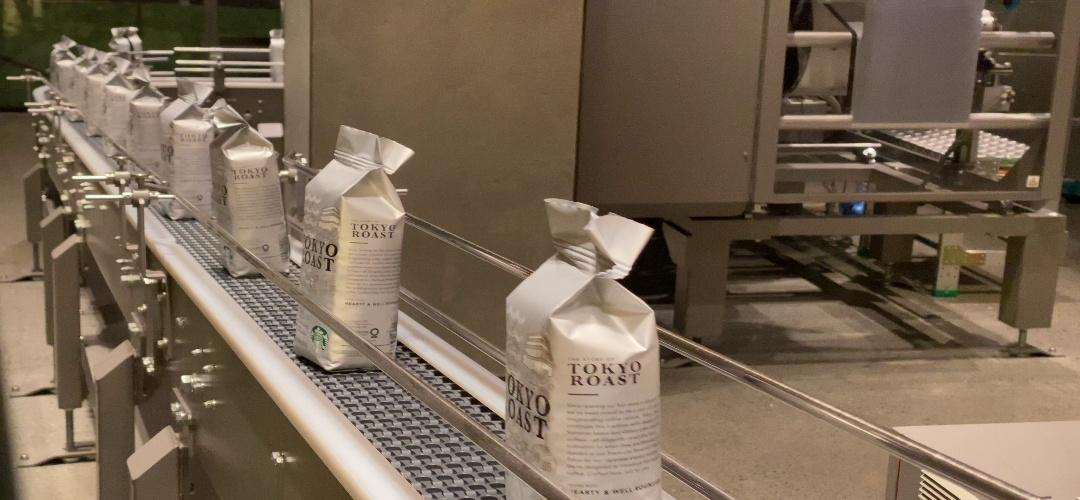conveyor: (505, 295, 661, 443), (305, 185, 401, 293), (208, 148, 283, 211)
